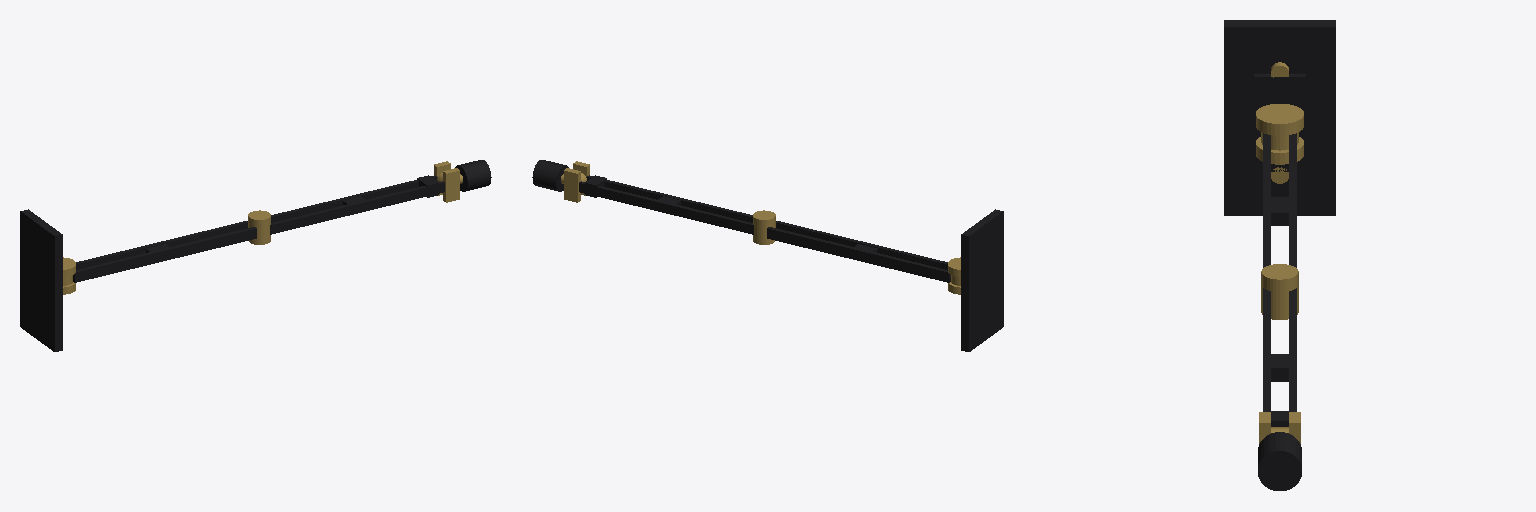
robot.urdf — headboard_swing_lamp:
<robot name="headboard_swing_lamp">
  <material name="black_metal">
    <color rgba="0.16 0.16 0.17 1" />
    </material>
  <material name="brass">
    <color rgba="0.63 0.54 0.32 1" />
    </material>
  <material name="ivory_enamel">
    <color rgba="0.9 0.88 0.82 1" />
    </material>
  <link name="wall_bracket">
    <inertial>
      <origin xyz="-0.01 0 0" rpy="0 0 0" />
      <mass value="0.85" />
      <inertia ixx="0.00136708" ixy="0" ixz="0" iyy="0.001275" iyz="0" izz="0.000602083" />
      </inertial>
    <visual name="bracket_plate">
      <origin xyz="-0.02 0 0" rpy="0 0 0" />
      <geometry>
        <box size="0.008 0.06 0.112" />
        </geometry>
      <material name="black_metal">
        <color rgba="0.16 0.16 0.17 1" />
        </material>
      </visual>
    <visual name="pivot_block">
      <origin xyz="-0.015 0 0" rpy="0 0 0" />
      <geometry>
        <box size="0.006 0.028 0.056" />
        </geometry>
      <material name="black_metal">
        <color rgba="0.16 0.16 0.17 1" />
        </material>
      </visual>
    <visual name="shoulder_ear_lower">
      <origin xyz="0 0 -0.0085" rpy="0 0 0" />
      <geometry>
        <cylinder radius="0.013" length="0.007" />
        </geometry>
      <material name="brass">
        <color rgba="0.63 0.54 0.32 1" />
        </material>
      </visual>
    <visual name="shoulder_ear_upper">
      <origin xyz="0 0 0.0085" rpy="0 0 0" />
      <geometry>
        <cylinder radius="0.013" length="0.007" />
        </geometry>
      <material name="brass">
        <color rgba="0.63 0.54 0.32 1" />
        </material>
      </visual>
    <visual name="upper_screw">
      <origin xyz="-0.014 0 0.03" rpy="0 1.5708 0" />
      <geometry>
        <cylinder radius="0.005" length="0.004" />
        </geometry>
      <material name="brass">
        <color rgba="0.63 0.54 0.32 1" />
        </material>
      </visual>
    <visual name="lower_screw">
      <origin xyz="-0.014 0 -0.03" rpy="0 1.5708 0" />
      <geometry>
        <cylinder radius="0.005" length="0.004" />
        </geometry>
      <material name="brass">
        <color rgba="0.63 0.54 0.32 1" />
        </material>
      </visual>
    </link>
  <link name="first_link">
    <inertial>
      <origin xyz="0.1 0 0" rpy="0 0 0" />
      <mass value="0.38" />
      <inertia ixx="3.648e-05" ixy="0" ixz="0" iyy="0.00141474" iyz="0" izz="0.00141474" />
      </inertial>
    <visual name="shoulder_barrel">
      <geometry>
        <cylinder radius="0.01" length="0.01" />
        </geometry>
      <material name="brass">
        <color rgba="0.63 0.54 0.32 1" />
        </material>
      </visual>
    <visual name="link1_bar_left">
      <origin xyz="0.1 -0.007 0" rpy="0 0 0" />
      <geometry>
        <box size="0.184 0.004 0.01" />
        </geometry>
      <material name="black_metal">
        <color rgba="0.16 0.16 0.17 1" />
        </material>
      </visual>
    <visual name="link1_bar_right">
      <origin xyz="0.1 0.007 0" rpy="0 0 0" />
      <geometry>
        <box size="0.184 0.004 0.01" />
        </geometry>
      <material name="black_metal">
        <color rgba="0.16 0.16 0.17 1" />
        </material>
      </visual>
    <visual name="link1_spacer">
      <origin xyz="0.098 0 0" rpy="0 0 0" />
      <geometry>
        <box size="0.02 0.018 0.008" />
        </geometry>
      <material name="black_metal">
        <color rgba="0.16 0.16 0.17 1" />
        </material>
      </visual>
    <visual name="elbow_ear_lower">
      <origin xyz="0.2 0 -0.0085" rpy="0 0 0" />
      <geometry>
        <cylinder radius="0.01" length="0.007" />
        </geometry>
      <material name="brass">
        <color rgba="0.63 0.54 0.32 1" />
        </material>
      </visual>
    <visual name="elbow_ear_upper">
      <origin xyz="0.2 0 0.0085" rpy="0 0 0" />
      <geometry>
        <cylinder radius="0.01" length="0.007" />
        </geometry>
      <material name="brass">
        <color rgba="0.63 0.54 0.32 1" />
        </material>
      </visual>
    </link>
  <link name="second_link">
    <inertial>
      <origin xyz="0.096 0 0" rpy="0 0 0" />
      <mass value="0.32" />
      <inertia ixx="5.46133e-05" ixy="0" ixz="0" iyy="0.00109397" iyz="0" izz="0.00109397" />
      </inertial>
    <visual name="elbow_barrel">
      <geometry>
        <cylinder radius="0.01" length="0.01" />
        </geometry>
      <material name="brass">
        <color rgba="0.63 0.54 0.32 1" />
        </material>
      </visual>
    <visual name="link2_bar_left">
      <origin xyz="0.096 -0.007 0" rpy="0 0 0" />
      <geometry>
        <box size="0.182 0.004 0.009" />
        </geometry>
      <material name="black_metal">
        <color rgba="0.16 0.16 0.17 1" />
        </material>
      </visual>
    <visual name="link2_bar_right">
      <origin xyz="0.096 0.007 0" rpy="0 0 0" />
      <geometry>
        <box size="0.182 0.004 0.009" />
        </geometry>
      <material name="black_metal">
        <color rgba="0.16 0.16 0.17 1" />
        </material>
      </visual>
    <visual name="link2_spacer">
      <origin xyz="0.096 0 0" rpy="0 0 0" />
      <geometry>
        <box size="0.018 0.018 0.008" />
        </geometry>
      <material name="black_metal">
        <color rgba="0.16 0.16 0.17 1" />
        </material>
      </visual>
    <visual name="tip_yoke_block">
      <origin xyz="0.17 0 0" rpy="0 0 0" />
      <geometry>
        <box size="0.012 0.018 0.012" />
        </geometry>
      <material name="black_metal">
        <color rgba="0.16 0.16 0.17 1" />
        </material>
      </visual>
    <visual name="tip_yoke_left">
      <origin xyz="0.189 -0.008 0" rpy="0 0 0" />
      <geometry>
        <box size="0.014 0.006 0.028" />
        </geometry>
      <material name="brass">
        <color rgba="0.63 0.54 0.32 1" />
        </material>
      </visual>
    <visual name="tip_yoke_right">
      <origin xyz="0.189 0.008 0" rpy="0 0 0" />
      <geometry>
        <box size="0.014 0.006 0.028" />
        </geometry>
      <material name="brass">
        <color rgba="0.63 0.54 0.32 1" />
        </material>
      </visual>
    </link>
  <link name="shade">
    <inertial>
      <origin xyz="0.08 0 0" rpy="0 0 0" />
      <mass value="0.42" />
      <inertia ixx="0.000847" ixy="0" ixz="0" iyy="0.001435" iyz="0" izz="0.001435" />
      </inertial>
    <visual name="tilt_barrel">
      <origin xyz="0 0 0" rpy="1.5708 0 0" />
      <geometry>
        <cylinder radius="0.0075" length="0.01" />
        </geometry>
      <material name="brass">
        <color rgba="0.63 0.54 0.32 1" />
        </material>
      </visual>
    <visual name="shade_neck">
      <origin xyz="0.008 0 0" rpy="0 1.5708 0" />
      <geometry>
        <cylinder radius="0.0045" length="0.016" />
        </geometry>
      <material name="brass">
        <color rgba="0.63 0.54 0.32 1" />
        </material>
      </visual>
    <visual name="shade_collar">
      <origin xyz="0.026 0 0" rpy="0 1.5708 0" />
      <geometry>
        <cylinder radius="0.012" length="0.024" />
        </geometry>
      <material name="black_metal">
        <color rgba="0.16 0.16 0.17 1" />
        </material>
      </visual>
    <visual name="shade_shell">
      <origin xyz="0.022 0 0" rpy="0 0 0" />
      <geometry>
        <mesh filename="assets/meshes/lamp_shade_shell.obj" />
        </geometry>
      <material name="ivory_enamel">
        <color rgba="0.9 0.88 0.82 1" />
        </material>
      </visual>
    </link>
  <joint name="bracket_to_first_link" type="revolute">
    <parent link="wall_bracket" />
    <child link="first_link" />
    <axis xyz="0 0 1" />
    <limit effort="8" velocity="2.5" lower="-1.45" upper="1.45" />
    </joint>
  <joint name="first_to_second_link" type="revolute">
    <origin xyz="0.2 0 0" rpy="0 0 0" />
    <parent link="first_link" />
    <child link="second_link" />
    <axis xyz="0 0 1" />
    <limit effort="6" velocity="2.5" lower="-2.35" upper="2.35" />
    </joint>
  <joint name="second_to_shade" type="revolute">
    <origin xyz="0.189 0 0" rpy="0 0 0" />
    <parent link="second_link" />
    <child link="shade" />
    <axis xyz="0 -1 0" />
    <limit effort="3" velocity="2" lower="-1.05" upper="0.7" />
    </joint>
  </robot>

--- Render facts (derived) ---
Views: 3 orthographic renders of the robot side by side, from view 1: azimuth 30°, elevation 25°; view 2: azimuth 150°, elevation 25°; view 3: azimuth 270°, elevation 25°.
Robot: headboard_swing_lamp — 4 links, 3 joints (3 revolute); root link wall_bracket; default pose: every joint at zero.
Visible links, largest first — view 1: wall_bracket, first_link, second_link, shade; view 2: wall_bracket, first_link, second_link, shade; view 3: wall_bracket, first_link, second_link, shade.
Boxes of the visible links, left/top/right/bottom form: wall_bracket: left=20, top=209, right=75, bottom=351; first_link: left=63, top=210, right=270, bottom=285; second_link: left=248, top=161, right=459, bottom=237; shade: left=437, top=160, right=491, bottom=191; wall_bracket: left=948, top=209, right=1003, bottom=351; first_link: left=753, top=210, right=960, bottom=285; second_link: left=564, top=161, right=775, bottom=237; shade: left=532, top=160, right=586, bottom=191; wall_bracket: left=1224, top=20, right=1335, bottom=215; first_link: left=1261, top=132, right=1298, bottom=319; second_link: left=1259, top=284, right=1300, bottom=443; shade: left=1258, top=427, right=1301, bottom=490.
Size in the robot's own frame: 0.451 by 0.06 by 0.112 metres.
0 mesh visuals loaded from 1 distinct referenced files (none loaded); not drawn: 1 (reference not matched to a file when rendering).
